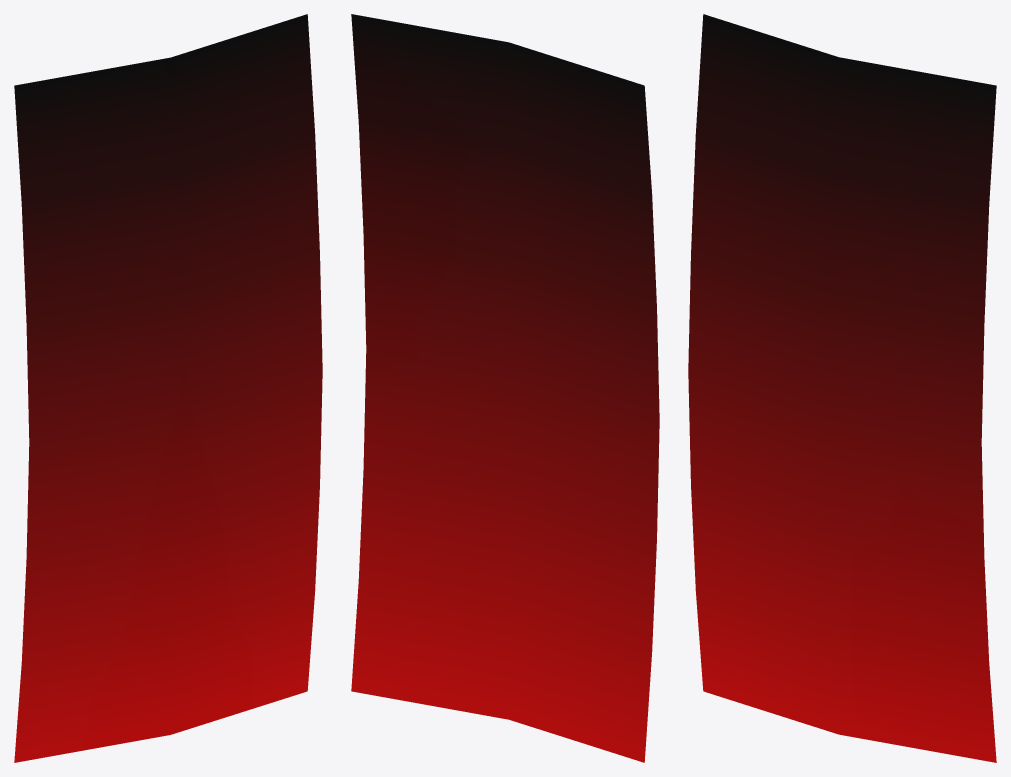
Rendered from vine2.fbx.
3 views of the same model, side by side, from view 1: azimuth 30°, elevation 25°; view 2: azimuth 150°, elevation 25°; view 3: azimuth 330°, elevation 25° (orthographic).
Visible parts, largest first — view 1: vine2; view 2: vine2; view 3: vine2.
Part boxes in pixels (left/top/right/bottom): vine2: left=14, top=14, right=322, bottom=762; vine2: left=351, top=14, right=659, bottom=762; vine2: left=688, top=14, right=996, bottom=762.
Size of the model in its own units: 0.5286 by 1.17 by 0.079.
